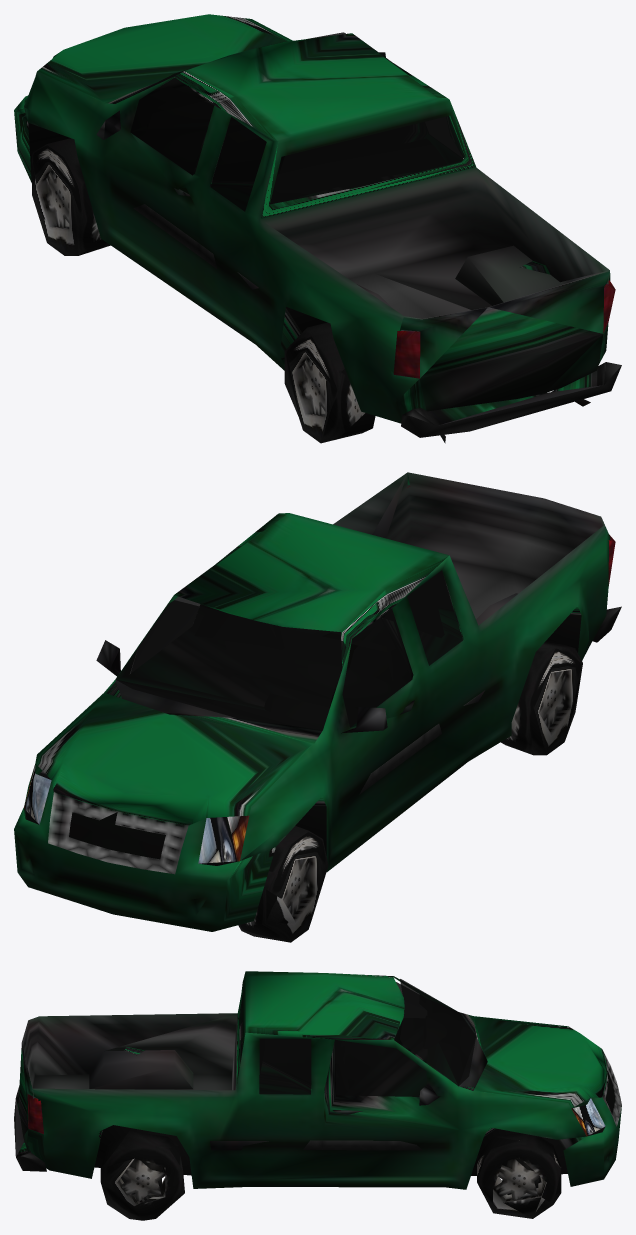
The model's file is c_pickup_lo.glb.
3 views of the same model, one above another, from view 1: azimuth 30°, elevation 25°; view 2: azimuth 150°, elevation 25°; view 3: azimuth 270°, elevation 25° (orthographic). The views are drawn at different scales.
Parts seen in each view (by area): view 1: body|Body_4, body|glass, body|Wheel_3, body|Optics_4; view 2: body|Body_4, body|glass, body|Wheel_3, body|Optics_4; view 3: body|Body_4, body|glass, body|Wheel_3, body|Optics_4.
Part boxes in pixels (<box>): body|Body_4: <box>14,14,621,443</box>; body|glass: <box>120,32,464,211</box>; body|Wheel_3: <box>32,138,375,443</box>; body|Optics_4: <box>393,280,615,378</box>; body|Body_4: <box>14,472,621,931</box>; body|glass: <box>115,570,462,729</box>; body|Wheel_3: <box>238,639,582,942</box>; body|Optics_4: <box>24,486,615,863</box>; body|Body_4: <box>14,971,621,1189</box>; body|glass: <box>240,979,475,1096</box>; body|Wheel_3: <box>100,1131,561,1220</box>; body|Optics_4: <box>27,1094,605,1136</box>.
Bounding box in the file's own units: 2.07 × 1.66 × 5.16.
4 materials, 3 textured.
